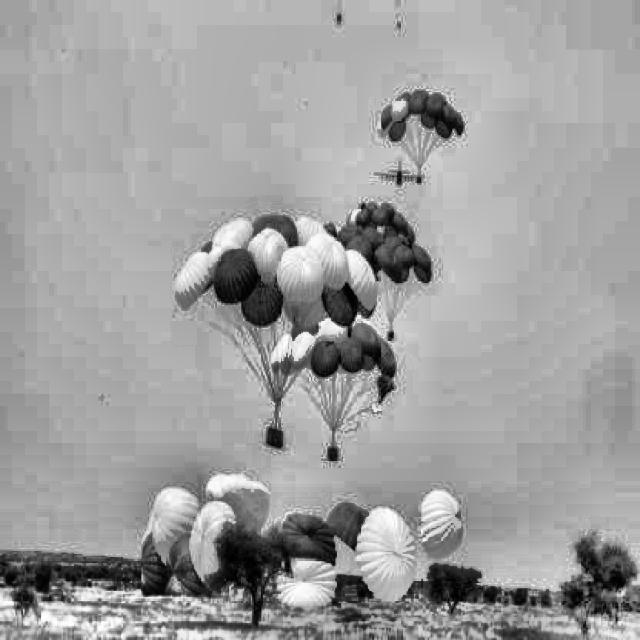C130: (374, 158, 424, 187)
